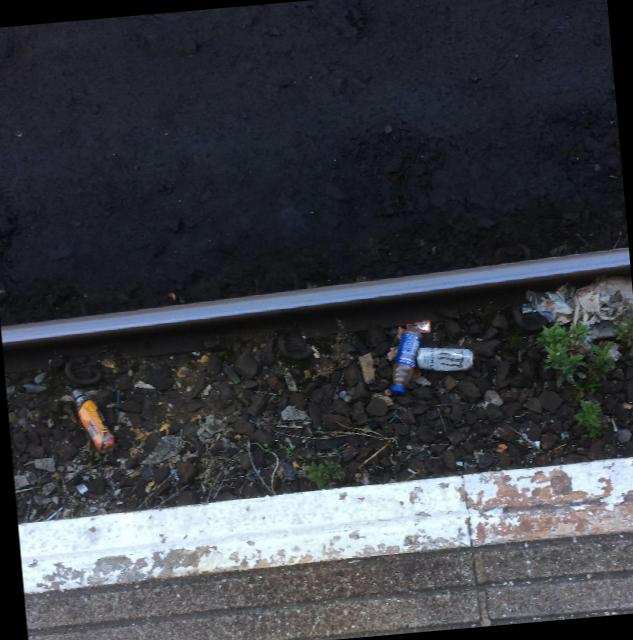metal: (416, 346, 472, 371)
plastic: (72, 388, 115, 453), (391, 321, 429, 394)
